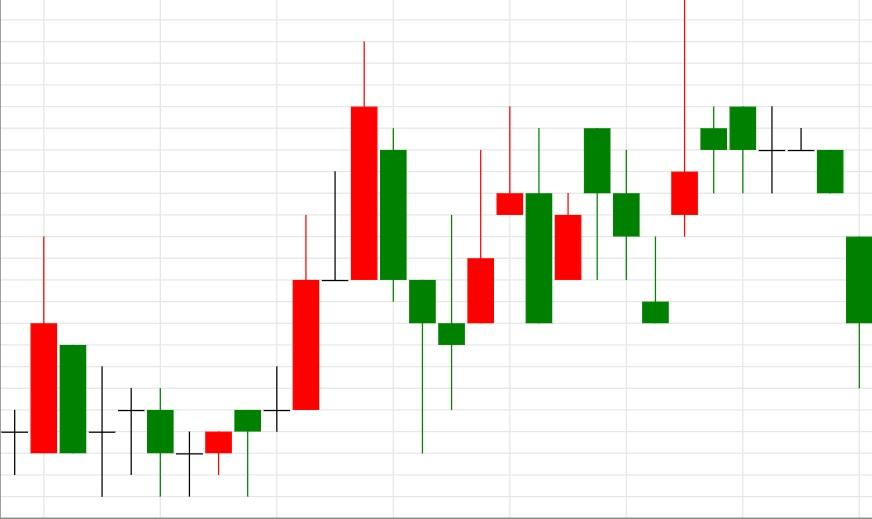inverse_hammer_rise: (583, 129, 669, 323)
morning_star_rise: (30, 236, 233, 497)
shooting_star_fall: (437, 105, 524, 410)
